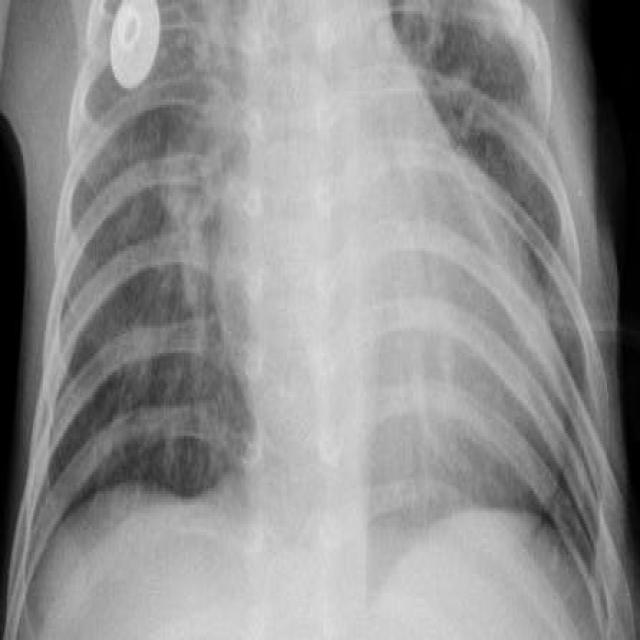low-pneumonia: (157, 52, 233, 360), (400, 8, 496, 159), (108, 296, 178, 485)
